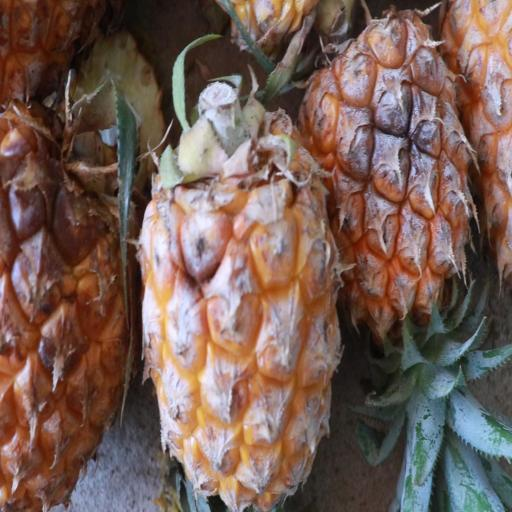Pineapple - v8 v1: (128, 115, 343, 506), (288, 5, 485, 390), (0, 96, 139, 512)
